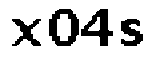0: (46, 4, 79, 49)
4: (80, 8, 115, 51)
s: (119, 17, 143, 47)
x: (8, 16, 45, 52)
